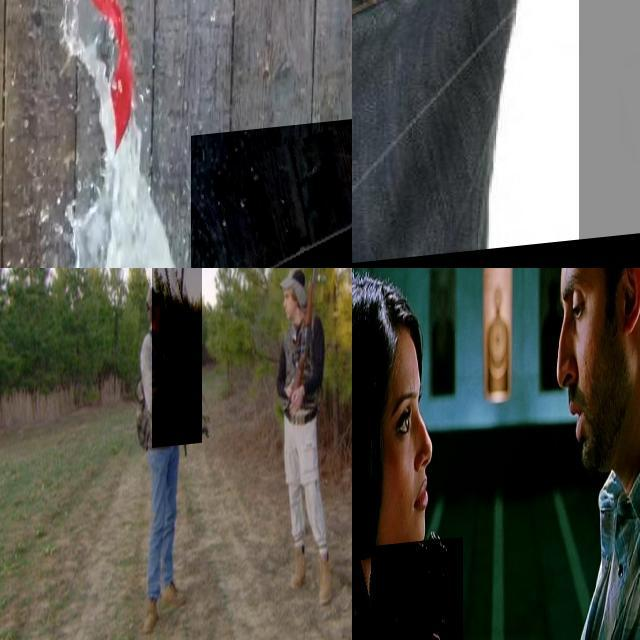-: (190, 120, 352, 268)
gun-knife-thesis - v11 Yolov5 augmented: (151, 268, 202, 452), (370, 542, 463, 640), (282, 268, 320, 427)
